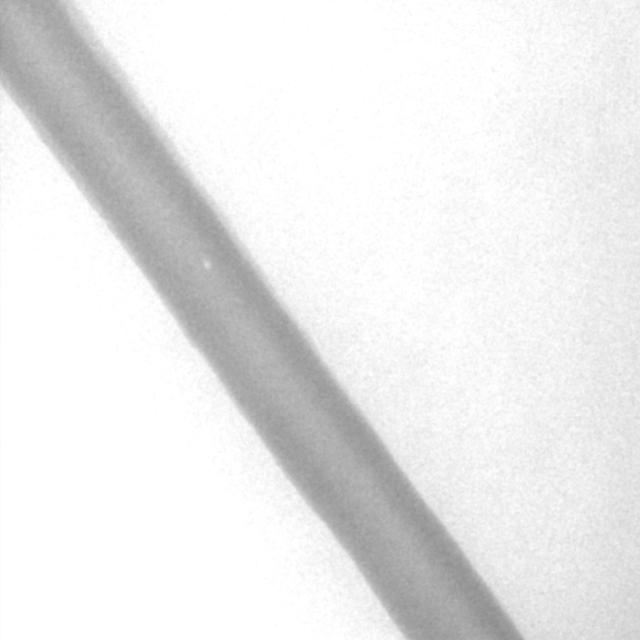air hole: (199, 256, 211, 271)
